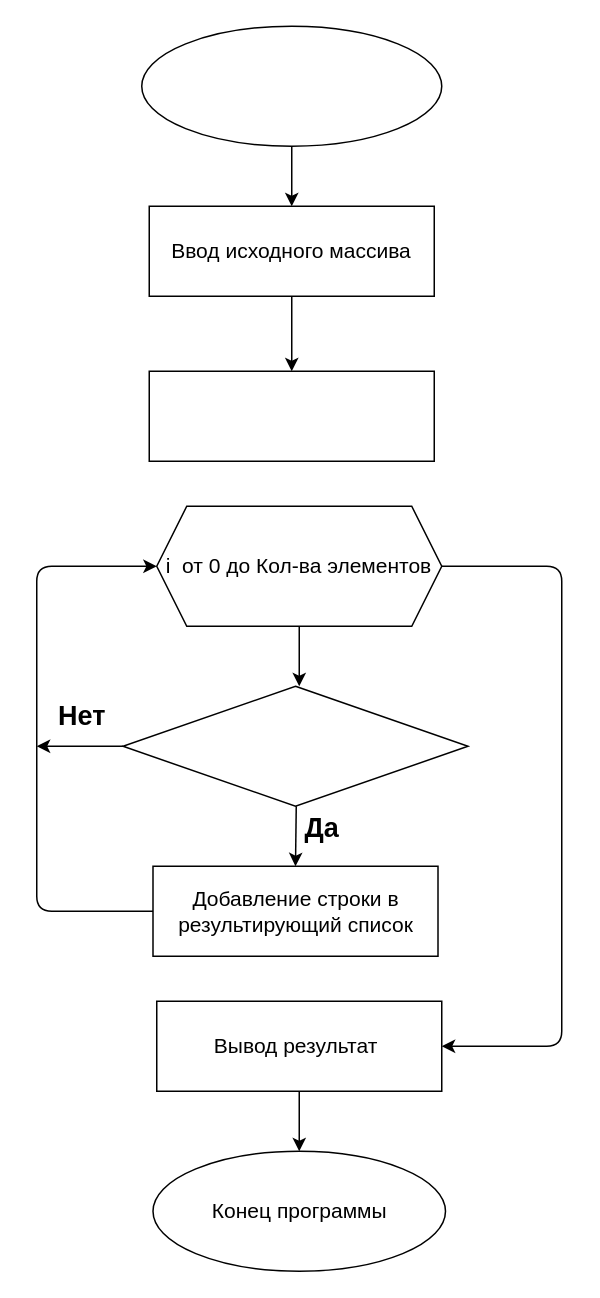
This 600x1298 diagram has some shape labels left out. Here are the shapes that lost their labels. From the top down, the centre of each, then its label:
At point (291, 85): "Начало программы".
At point (291, 415): "Иннициализация Результирующего массива".
At point (295, 745): "Длина элемента меньше 4".
